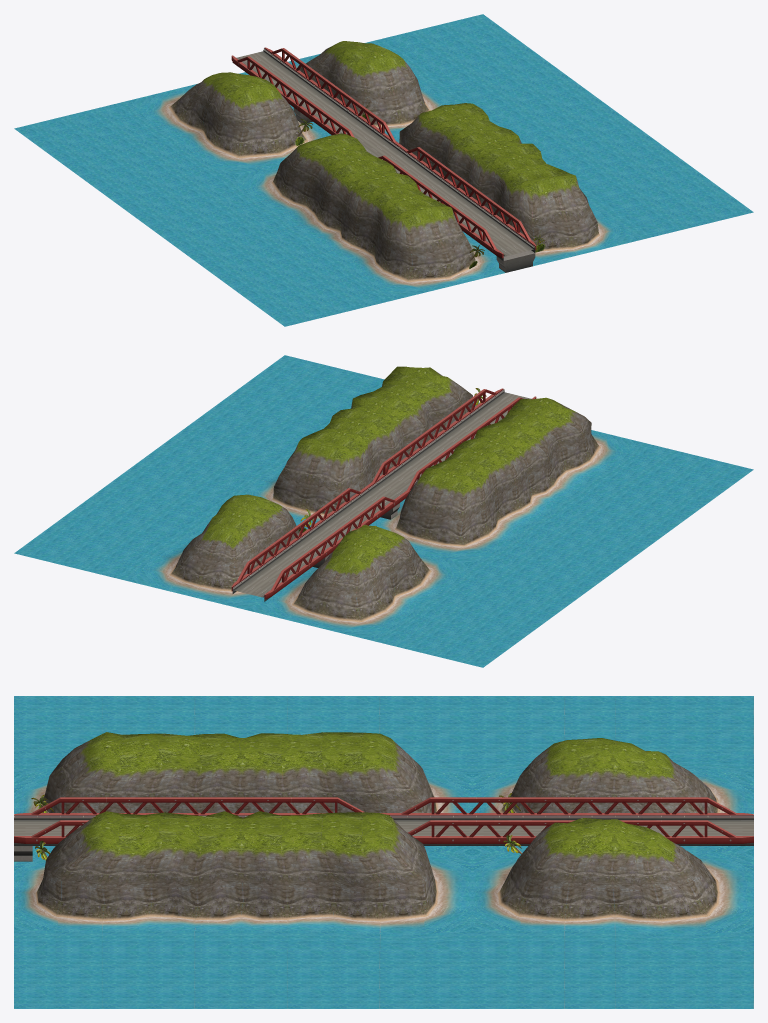
The model's file is Track010_Low.FBX.
3 views of the same model, one above another, from view 1: azimuth 30°, elevation 25°; view 2: azimuth 150°, elevation 25°; view 3: azimuth 270°, elevation 25° (orthographic). The views are drawn at different scales.
Visible parts, largest first — view 1: Ground, Road (×2), Guard (×2), Pillar; view 2: Ground, Road (×2), Guard (×2); view 3: Ground, Guard (×2), Road (×2).
Part boxes in pixels (x1,y1,x2,y2): Ground: [14, 14, 753, 326]; Road (×2): [232, 48, 535, 260]; Guard (×2): [231, 47, 536, 258]; Pillar: [496, 250, 535, 272]; Ground: [14, 355, 753, 667]; Road (×2): [232, 389, 531, 601]; Guard (×2): [231, 388, 536, 599]; Ground: [14, 696, 753, 1008]; Guard (×2): [14, 797, 753, 843]; Road (×2): [14, 815, 753, 845].
Size of the model in its own units: 6300 by 698 by 6300.
